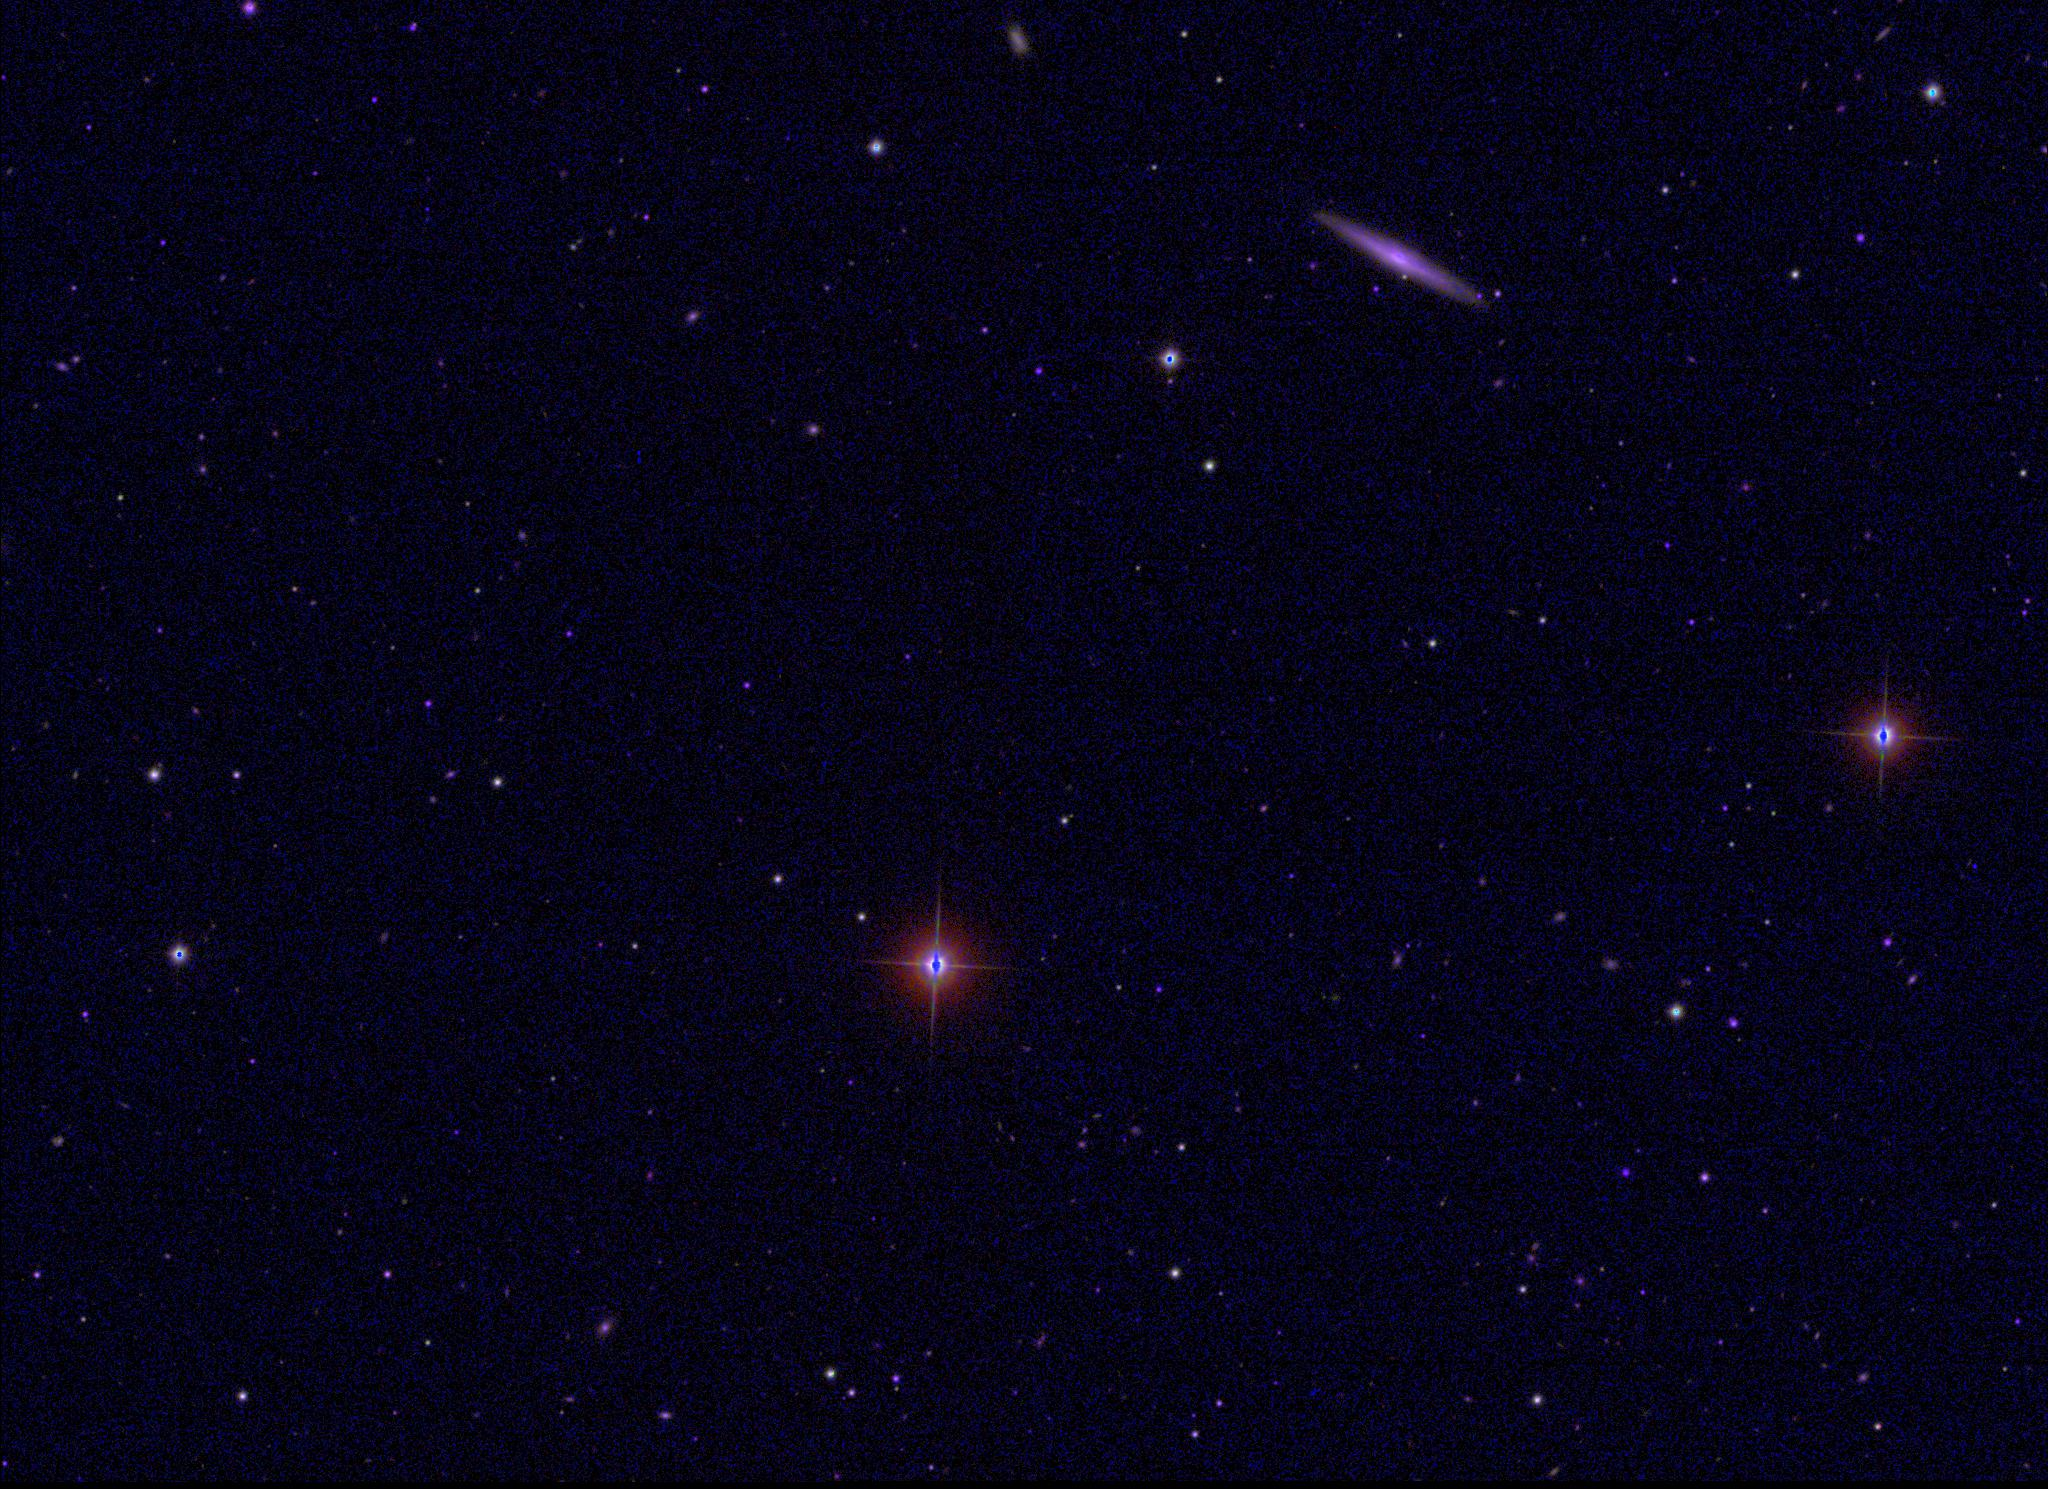L: (1968, 861, 1981, 875)
